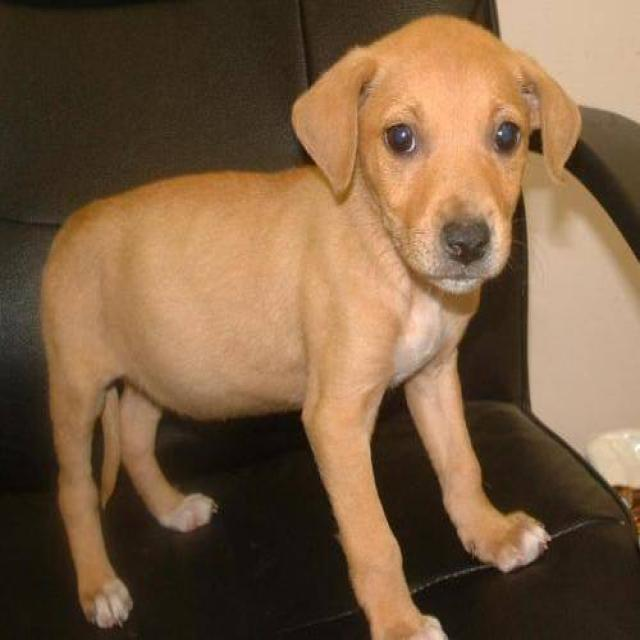puppy-dog: (38, 15, 583, 640)
